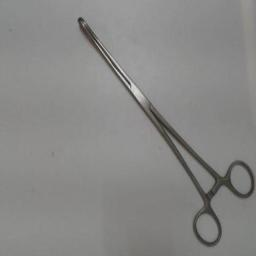Sponge Forceps: (74, 14, 256, 252)
